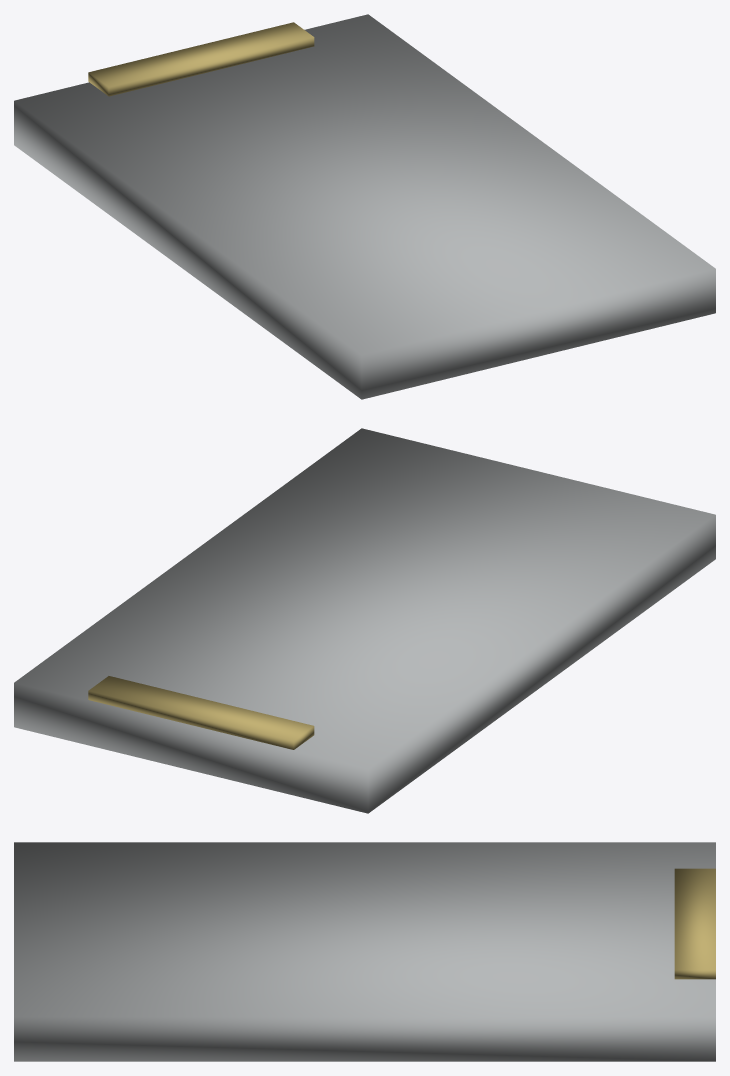
File: floor_w100_d170_open.glb
The picture shows the model from 3 angles, top to bottom: view 1: azimuth 30°, elevation 25°; view 2: azimuth 150°, elevation 25°; view 3: azimuth 270°, elevation 25°; orthographic projection.
Parts seen in each view (by area): view 1: world; view 2: world; view 3: world.
Boxes of the visible parts, left/top/right/bottom form: world: left=14, top=14, right=715, bottom=399; world: left=14, top=428, right=715, bottom=813; world: left=14, top=842, right=715, bottom=1061.
Bounding box in the file's own units: 1 × 0.1475 × 1.7.
